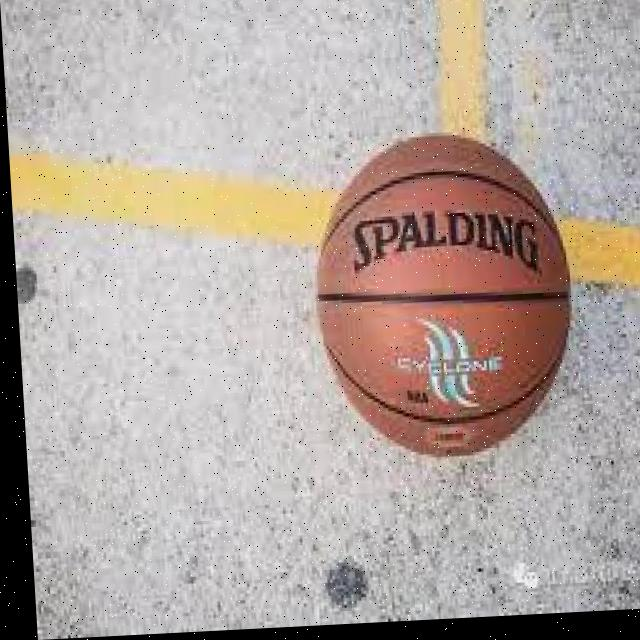Basketball: (305, 128, 581, 467)
